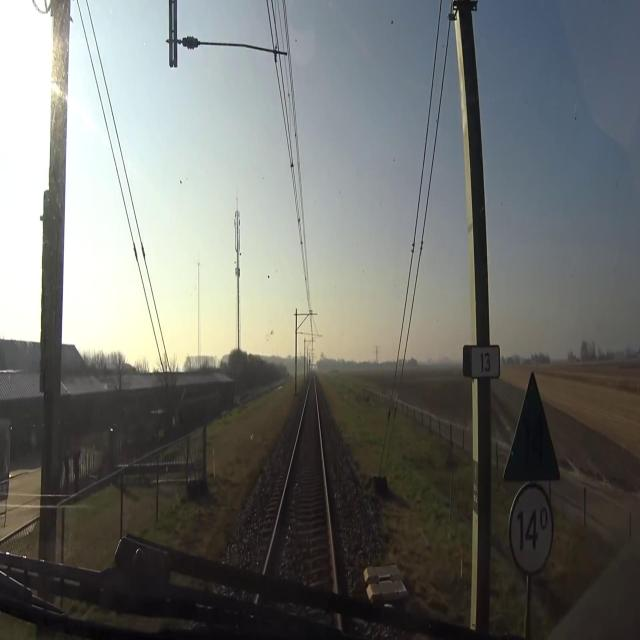rail-track: (267, 380, 333, 596)
